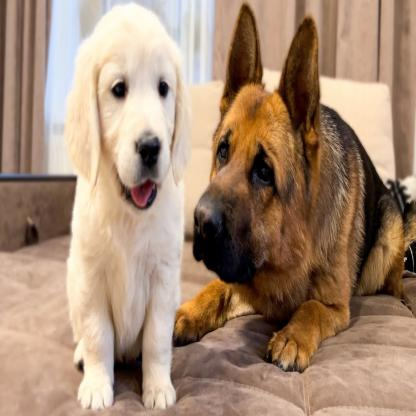german shepherd: (173, 2, 404, 366)
